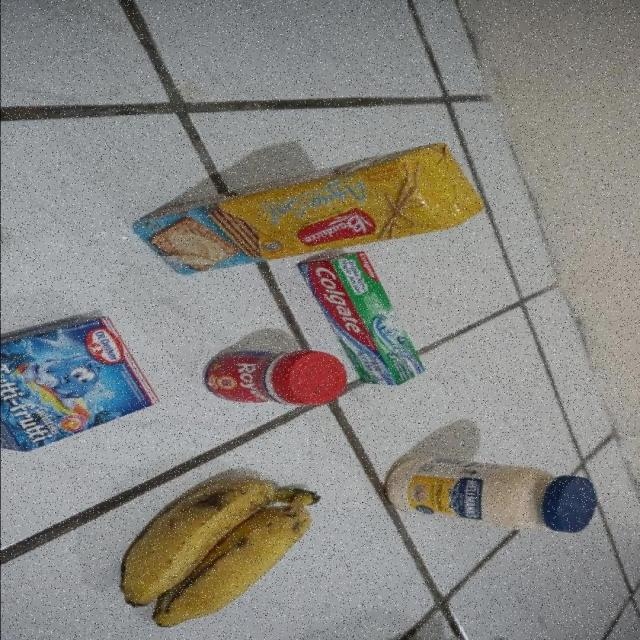Banana: (117, 478, 319, 630)
Cracker: (127, 142, 483, 276)
Gelatine: (0, 316, 164, 453)
Mayonnaise: (385, 456, 600, 533)
Toothpaste: (296, 252, 424, 386)
Yeast: (200, 348, 346, 407)
